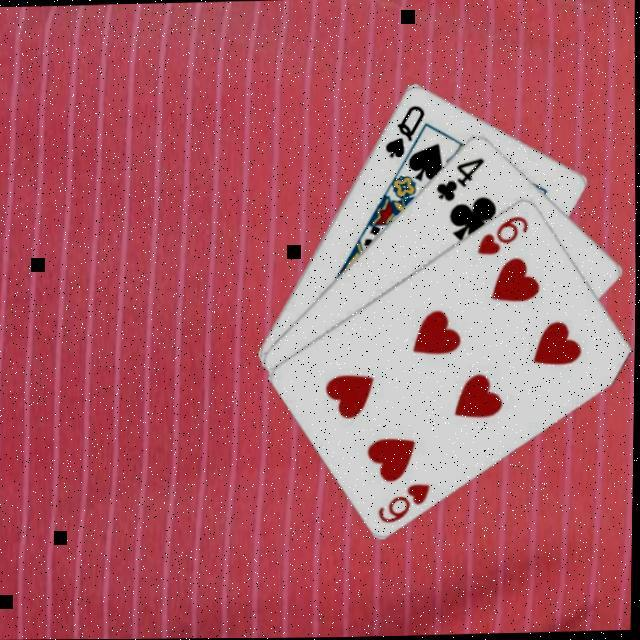4C: (434, 152, 490, 202)
6H: (475, 209, 535, 256), (376, 477, 436, 524)
QS: (382, 99, 430, 159)
